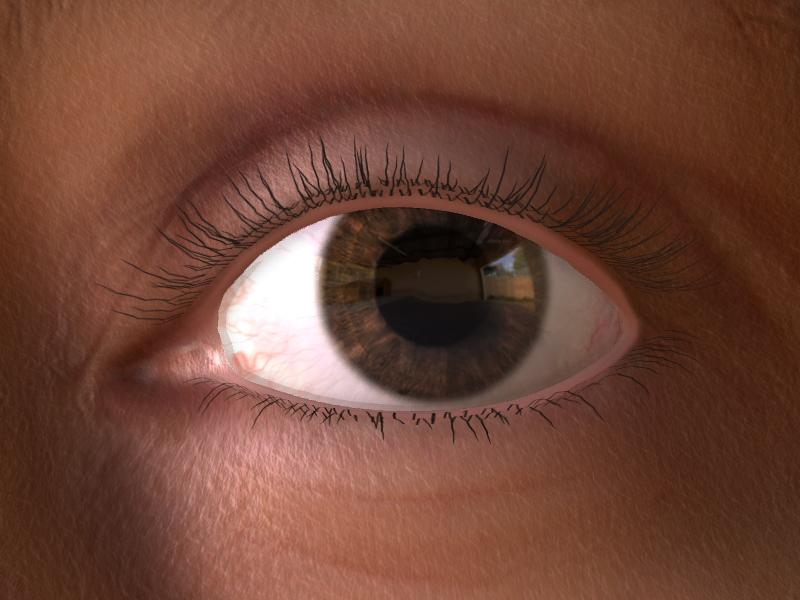eye: (319, 208, 546, 395)
